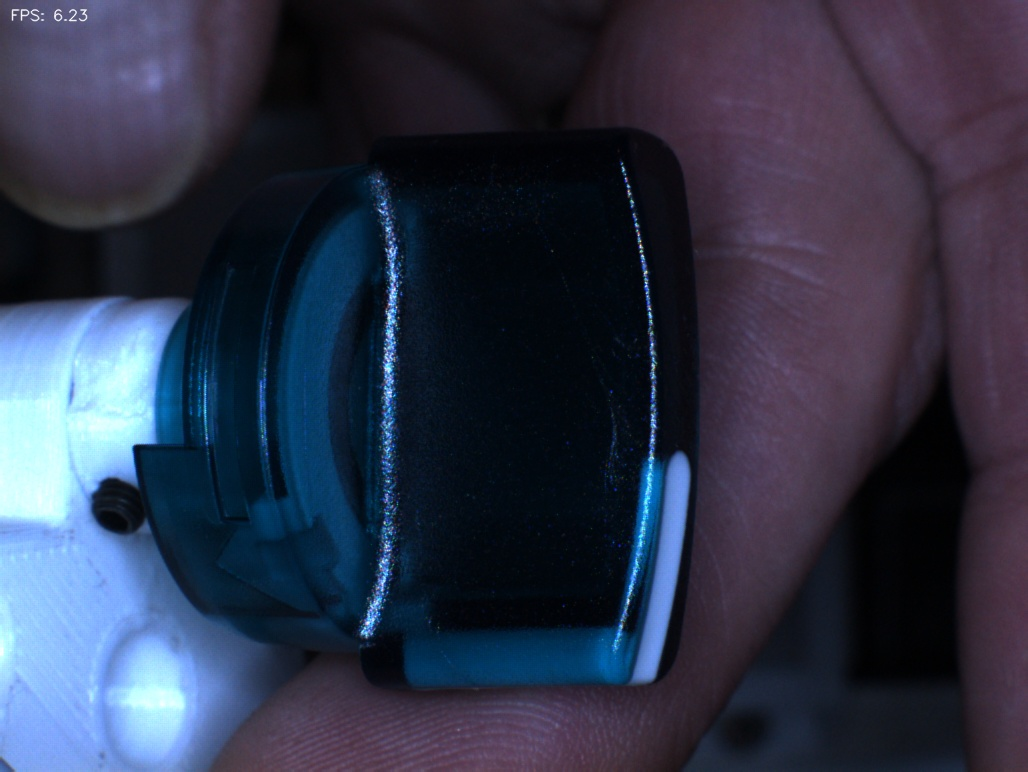Givrage: (567, 290, 649, 501)
